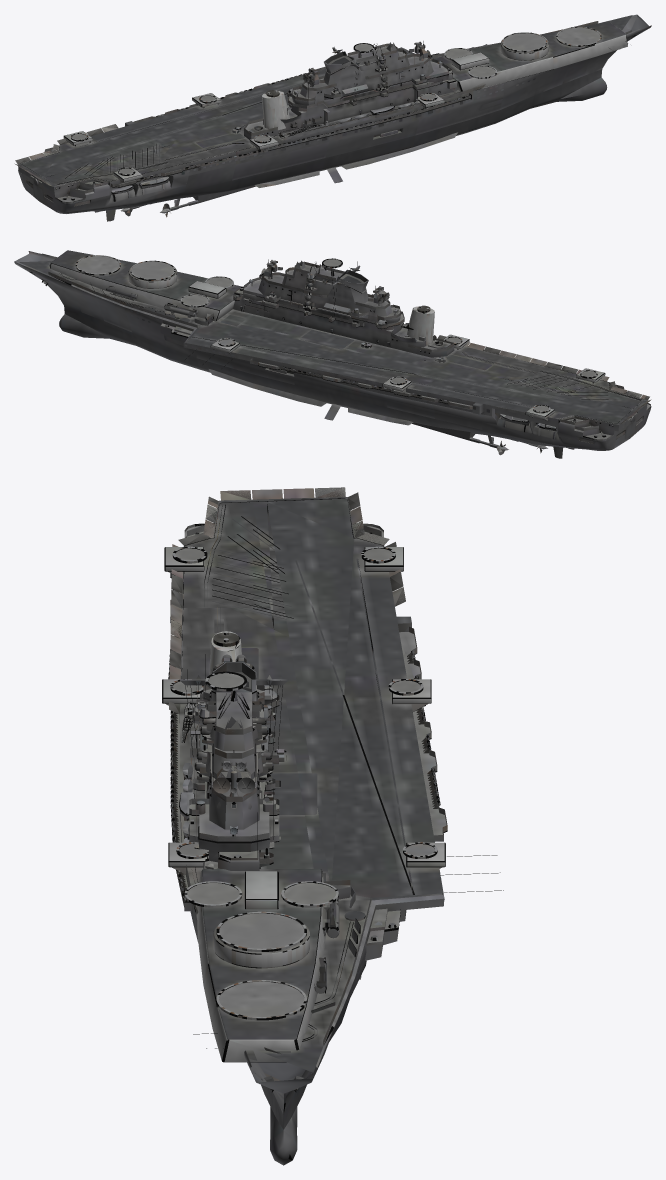
File: fh_battle_e_leviathan.glb
3 renders of one model, top to bottom at view 1: azimuth 30°, elevation 25°; view 2: azimuth 150°, elevation 25°; view 3: azimuth 270°, elevation 25°, orthographic. The views are drawn at different scales.
Visible parts, largest first — view 1: body; view 2: body; view 3: body.
Boxes of the visible parts, x1=… form: body: x1=14, y1=14, x2=651, y2=221; body: x1=14, y1=250, x2=651, y2=458; body: x1=162, y1=487, x2=503, y2=1165.
Bounding box in the file's own units: 0.9996 × 0.1874 × 0.2405.
Materials: 1 (1 with a texture image).
